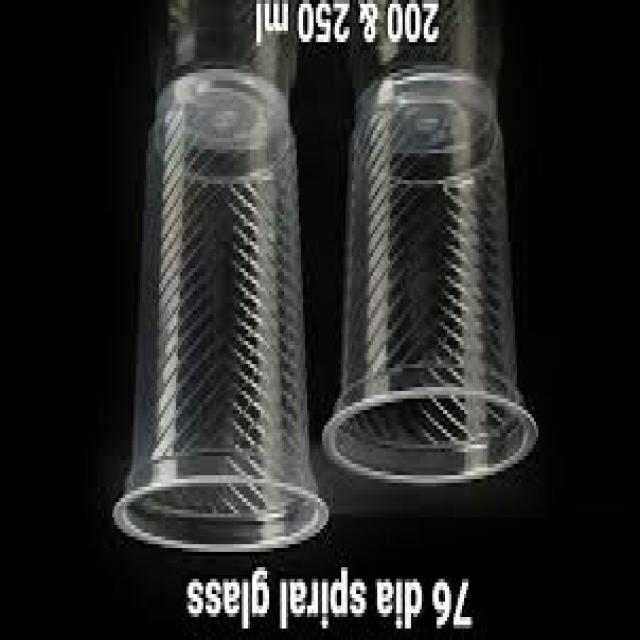plastic: (114, 69, 327, 550), (324, 70, 537, 484)
